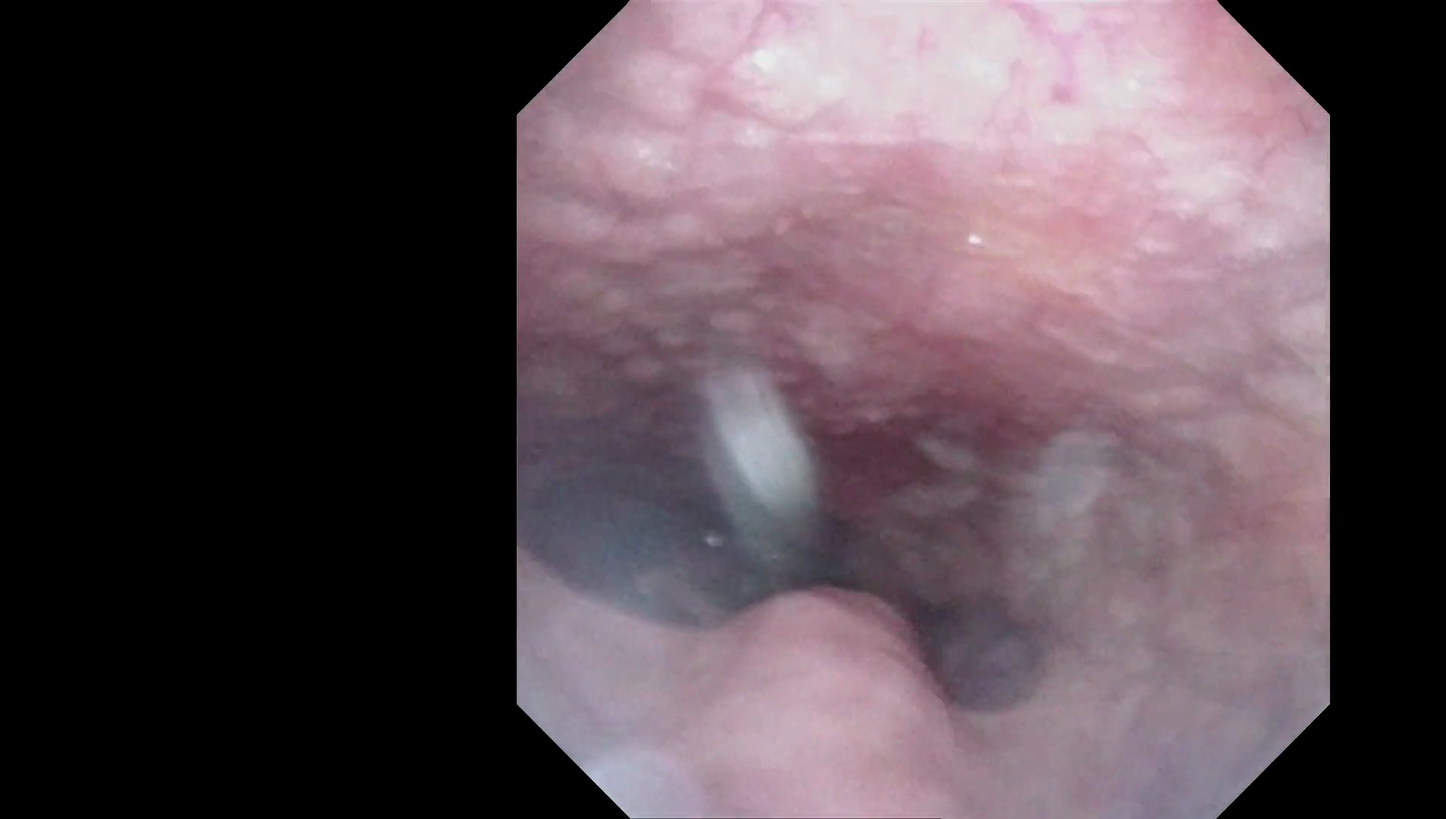close_wall: (667, 0, 1203, 187)
next: (550, 473, 874, 644)
